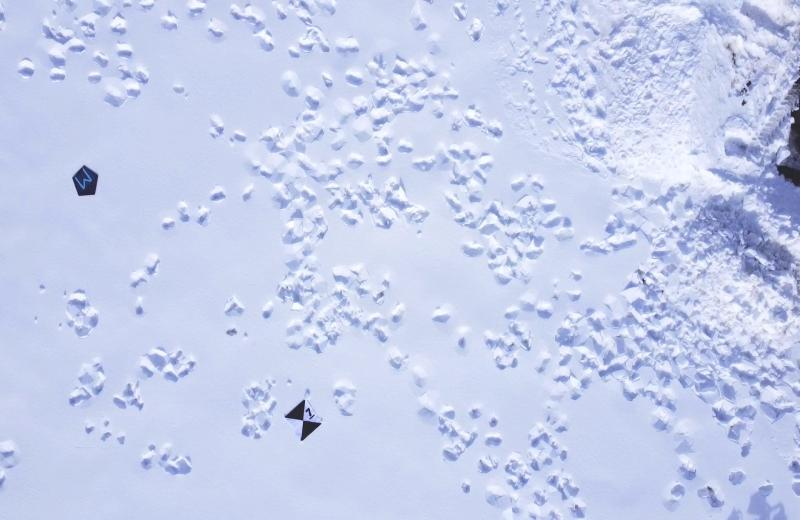Pentagon: (69, 163, 103, 201)
